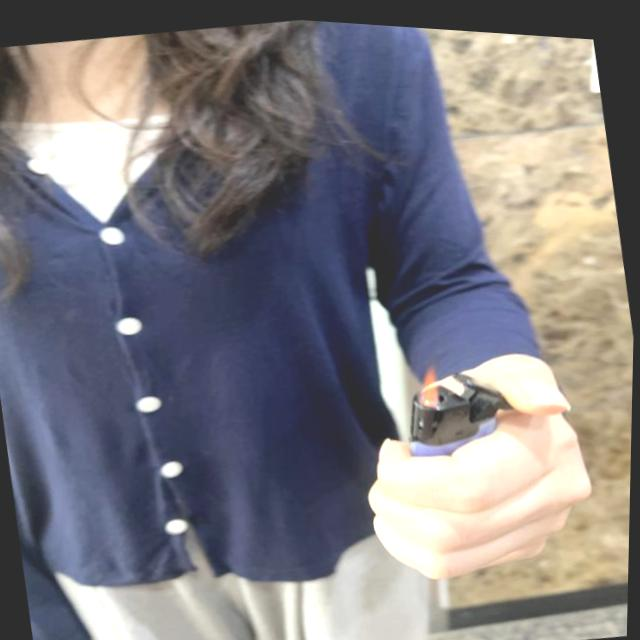helmet: (411, 355, 443, 404)
